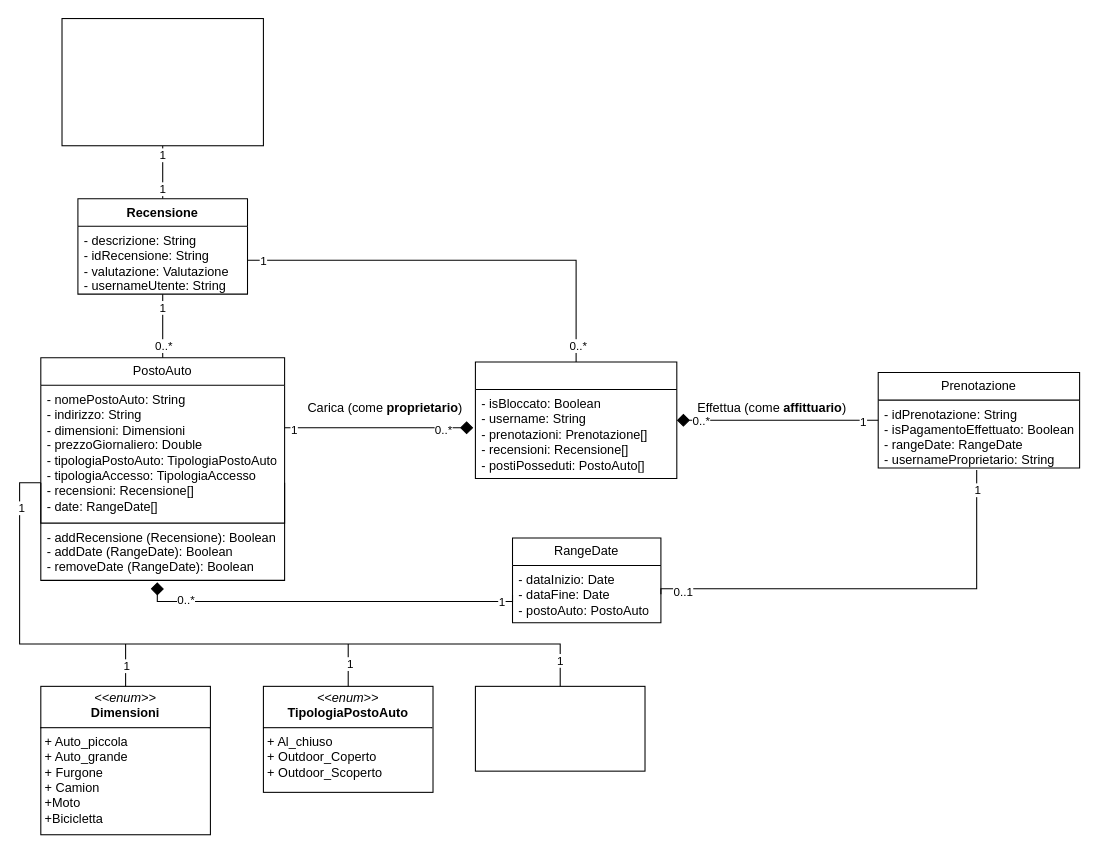
Image size: 1098x853. Some labels were removed from this diagram. The shapes that lost their labels are listed below. From the top down, each one's box as (x1, y1, x2, y2) in pixels, then its label:
(61, 17, 263, 146): <<enum>> Valutazione + 1_Stella + 2_Stelle + 3_Stelle + 4_Stelle + 5_Stelle
(474, 361, 677, 479): Utente
(474, 685, 645, 771): <<enum>> TipologiaAccesso + Codice + Chiave
